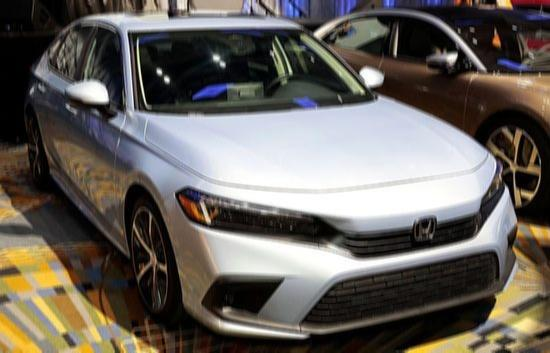Car hood: (139, 93, 492, 192)
Driver-s door - -F-R-: (63, 16, 134, 262), (373, 6, 474, 138)
Fender - -F-R-: (107, 105, 205, 264), (463, 68, 550, 168)
Front bumper: (151, 187, 530, 347)
Headlight - -L-: (475, 158, 508, 233)
Headlight - -R-: (174, 185, 340, 252)
Passenger-s door - -R-R-: (32, 5, 90, 212)
Side bumper - -R-: (42, 162, 144, 274)
Side mirror - -L-: (358, 64, 386, 95)
Side mirror - -R-: (66, 78, 119, 121), (429, 50, 470, 77)
